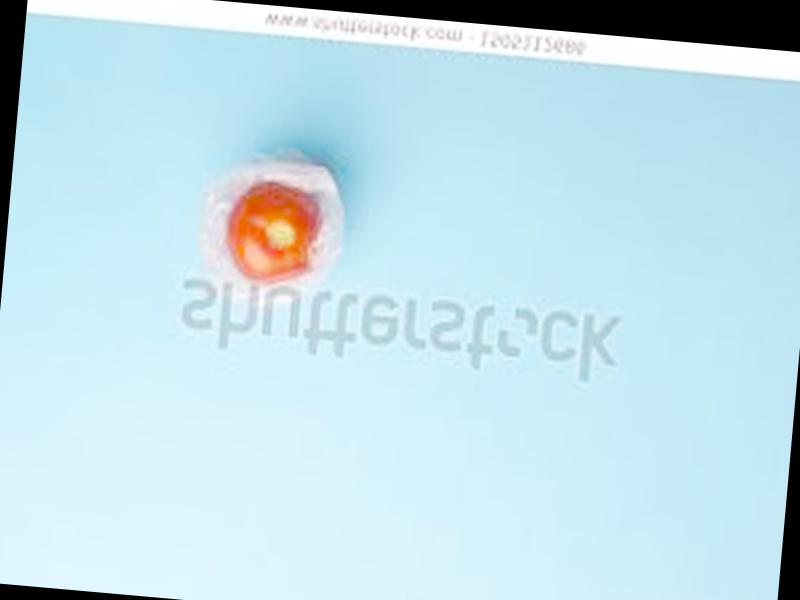Tomato: (225, 180, 326, 287)
